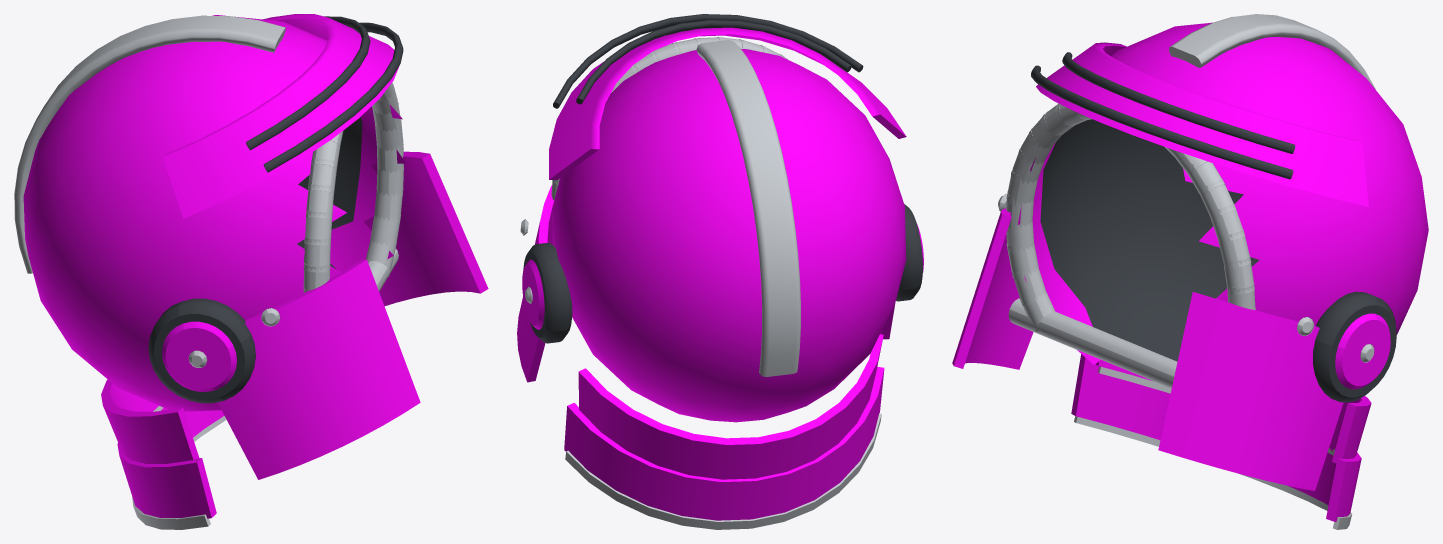
The model's file is objet_armure2_casque.glb.
3 views of the same model, side by side, from view 1: azimuth 30°, elevation 25°; view 2: azimuth 150°, elevation 25°; view 3: azimuth 270°, elevation 25° (orthographic). The views are drawn at different scales.
Parts seen in each view (by area): view 1: tete__casque_teinte.010, tete__casque_rivet.006, tete__casque_teinte_sombre.010; view 2: tete__casque_teinte.010, tete__casque_rivet.006, tete__casque_teinte_sombre.010; view 3: tete__casque_teinte.010, tete__casque_teinte_sombre.010, tete__casque_rivet.006.
Part boxes in pixels (x1,y1,x2,y2): tete__casque_teinte.010: (23, 14, 488, 518); tete__casque_rivet.006: (14, 15, 403, 529); tete__casque_teinte_sombre.010: (148, 16, 403, 403); tete__casque_teinte.010: (517, 27, 923, 520); tete__casque_rivet.006: (520, 37, 881, 529); tete__casque_teinte_sombre.010: (523, 14, 922, 343); tete__casque_teinte.010: (952, 22, 1428, 521); tete__casque_teinte_sombre.010: (1031, 52, 1396, 402); tete__casque_rivet.006: (998, 14, 1375, 529).
Size of the model in its own units: 0.2788 by 0.3157 by 0.2779.
